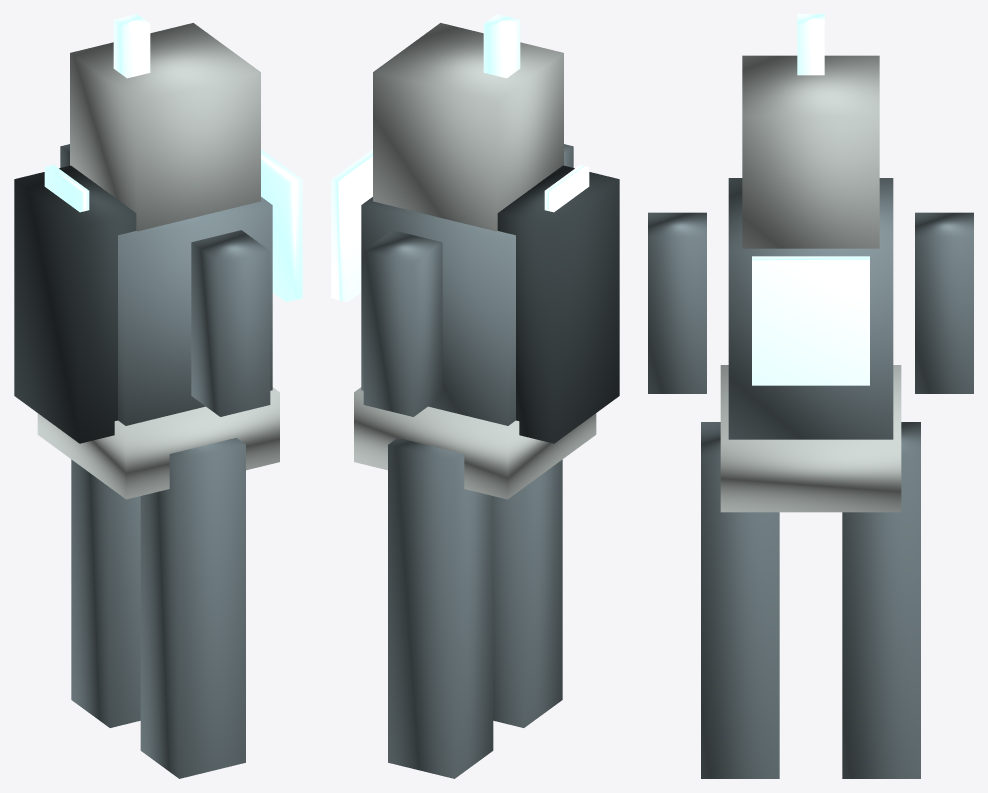
The model's file is spin-habitat-spin-trim-specialist-lod2.glb.
3 views of the same model, side by side, from view 1: azimuth 30°, elevation 25°; view 2: azimuth 150°, elevation 25°; view 3: azimuth 270°, elevation 25° (orthographic).
Visible parts, largest first — view 1: leg-left, helmet, backpack, torso-shell-mobile, leg-right, arm-left, hip-shell-mobile, spin-habitat-spin-trim-index, technician-mast, spin-habitat-spin-trim-gyro; view 2: leg-right, helmet, backpack, torso-shell-mobile, leg-left, arm-right, hip-shell-mobile, spin-habitat-spin-trim-index, technician-mast, spin-habitat-spin-trim-gyro; view 3: helmet, leg-left, leg-right, torso-shell-mobile, spin-habitat-spin-trim-index, hip-shell-mobile, arm-left, arm-right, technician-mast.
Boxes of the visible parts, <box> form: leg-left: <box>140,438,245,778</box>; helmet: <box>70,23,260,231</box>; backpack: <box>14,165,136,443</box>; torso-shell-mobile: <box>118,197,272,425</box>; leg-right: <box>71,459,140,727</box>; arm-left: <box>191,230,270,416</box>; hip-shell-mobile: <box>37,387,279,499</box>; spin-habitat-spin-trim-index: <box>261,149,302,302</box>; technician-mast: <box>113,14,150,78</box>; spin-habitat-spin-trim-gyro: <box>44,165,89,212</box>; leg-right: <box>388,438,493,778</box>; helmet: <box>373,23,563,231</box>; backpack: <box>497,165,619,443</box>; torso-shell-mobile: <box>361,197,515,425</box>; leg-left: <box>493,459,562,727</box>; arm-right: <box>363,230,442,416</box>; hip-shell-mobile: <box>354,387,596,499</box>; spin-habitat-spin-trim-index: <box>331,149,372,302</box>; technician-mast: <box>483,14,520,78</box>; spin-habitat-spin-trim-gyro: <box>544,165,589,212</box>; helmet: <box>742,55,879,248</box>; leg-left: <box>701,422,779,778</box>; leg-right: <box>842,422,920,778</box>; torso-shell-mobile: <box>728,178,893,439</box>; spin-habitat-spin-trim-index: <box>752,256,869,385</box>; hip-shell-mobile: <box>720,365,901,512</box>; arm-left: <box>648,212,706,393</box>; arm-right: <box>915,212,973,393</box>; technician-mast: <box>797,14,824,75</box>.
Size of the model in its own units: 0.68 by 2.05 by 0.83.
